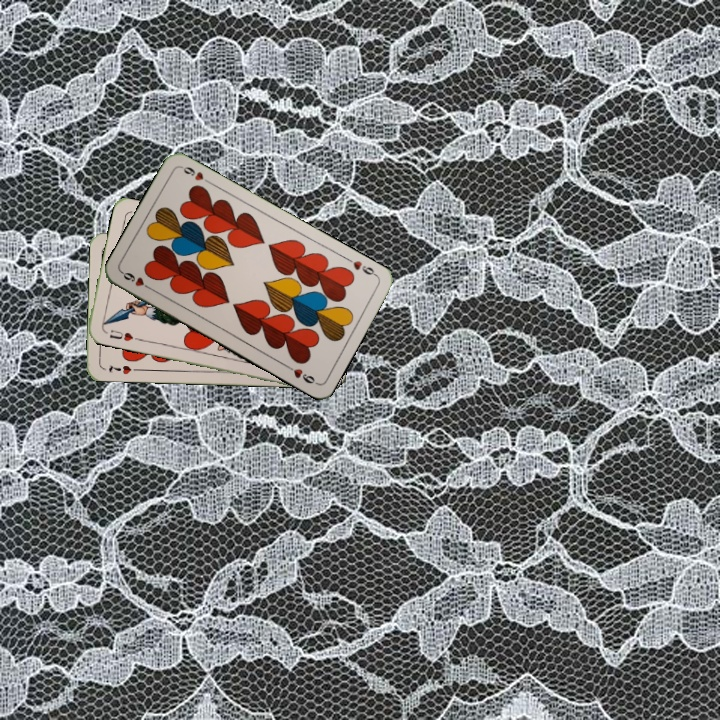H7: (104, 361, 141, 377)
H9: (342, 254, 380, 279), (118, 268, 155, 293)
HU: (106, 326, 136, 344)
